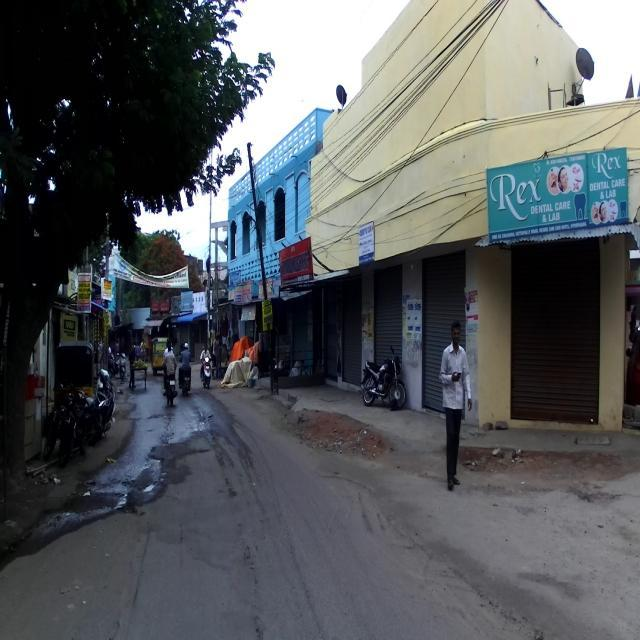pothole: (19, 429, 177, 539), (290, 388, 391, 470), (467, 447, 629, 488), (182, 393, 228, 451)
